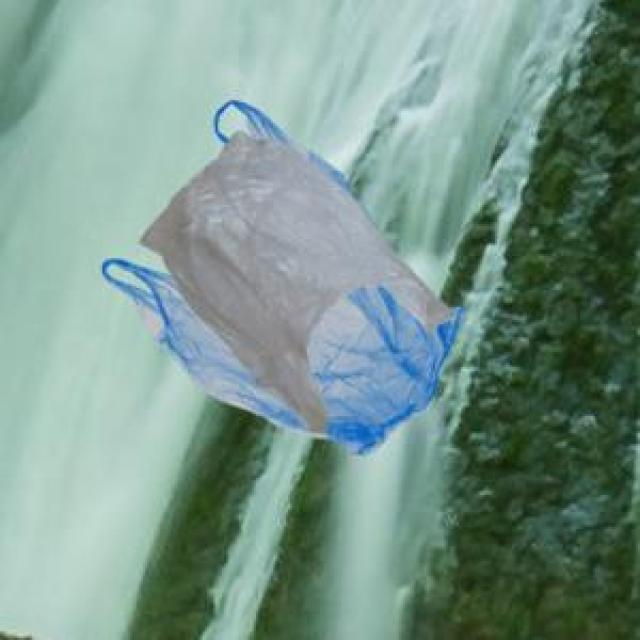waste: (102, 102, 462, 452)
